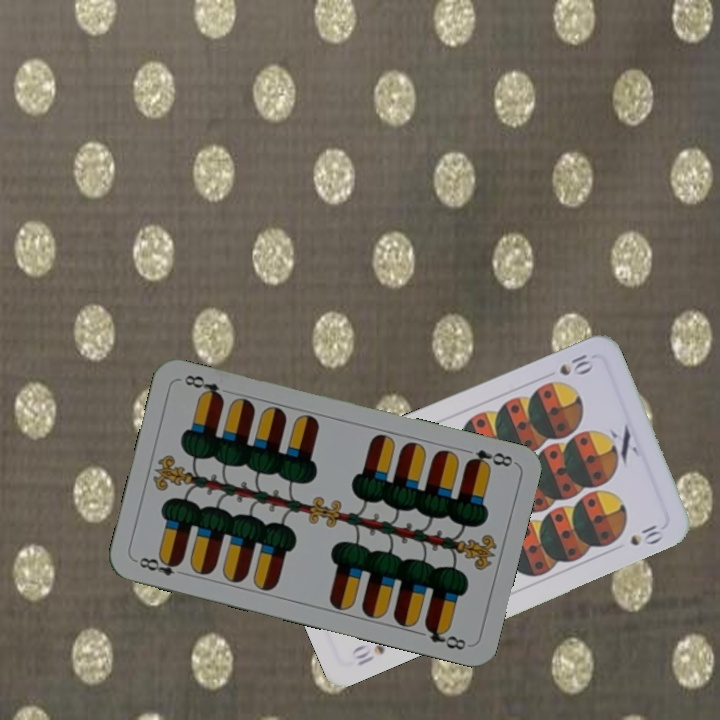E8: (462, 445, 515, 472), (132, 552, 184, 579)
S10: (555, 350, 597, 378), (348, 640, 388, 669)
